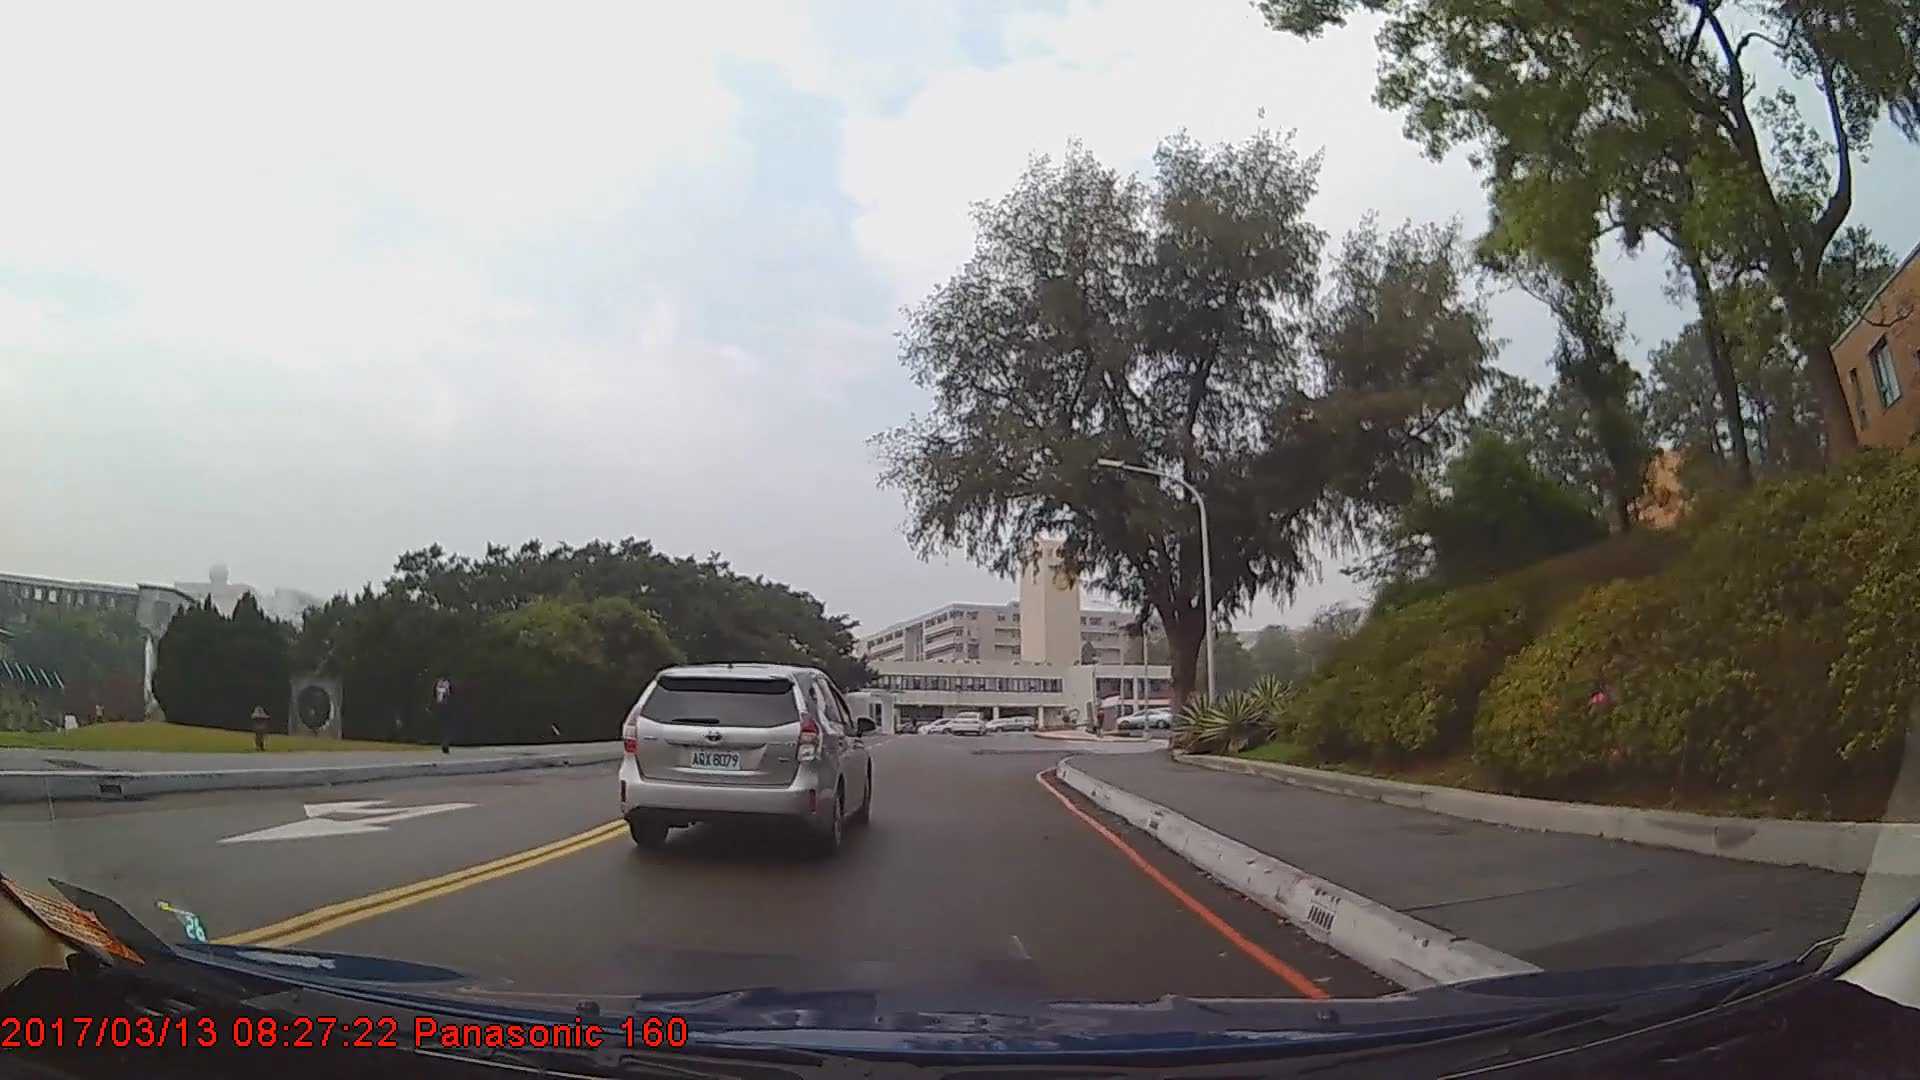pedestrian: (421, 662, 465, 754)
vehicle: (614, 658, 871, 850), (949, 706, 987, 733)
